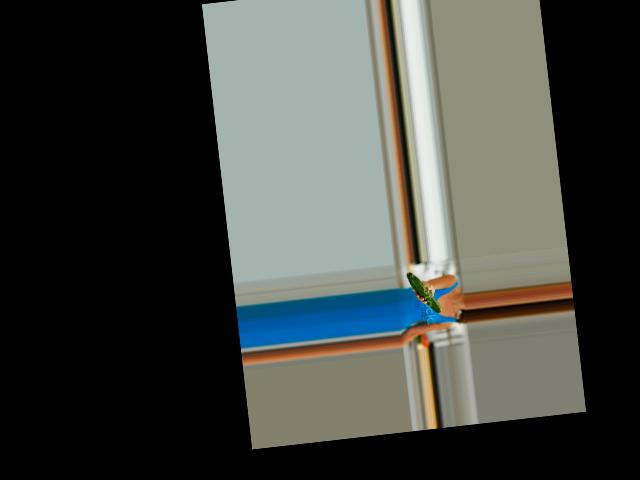cucumber: (405, 269, 441, 316)
